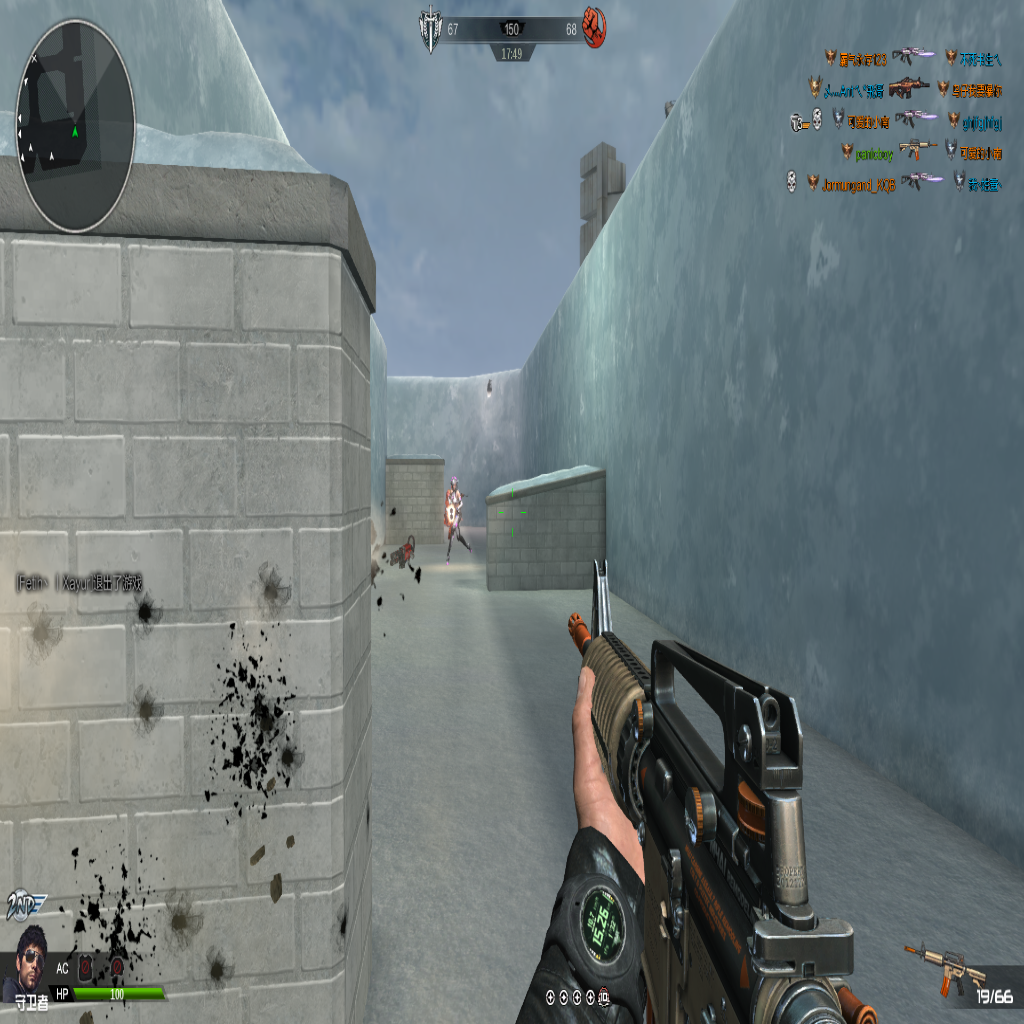tt: (443, 476, 470, 561)
